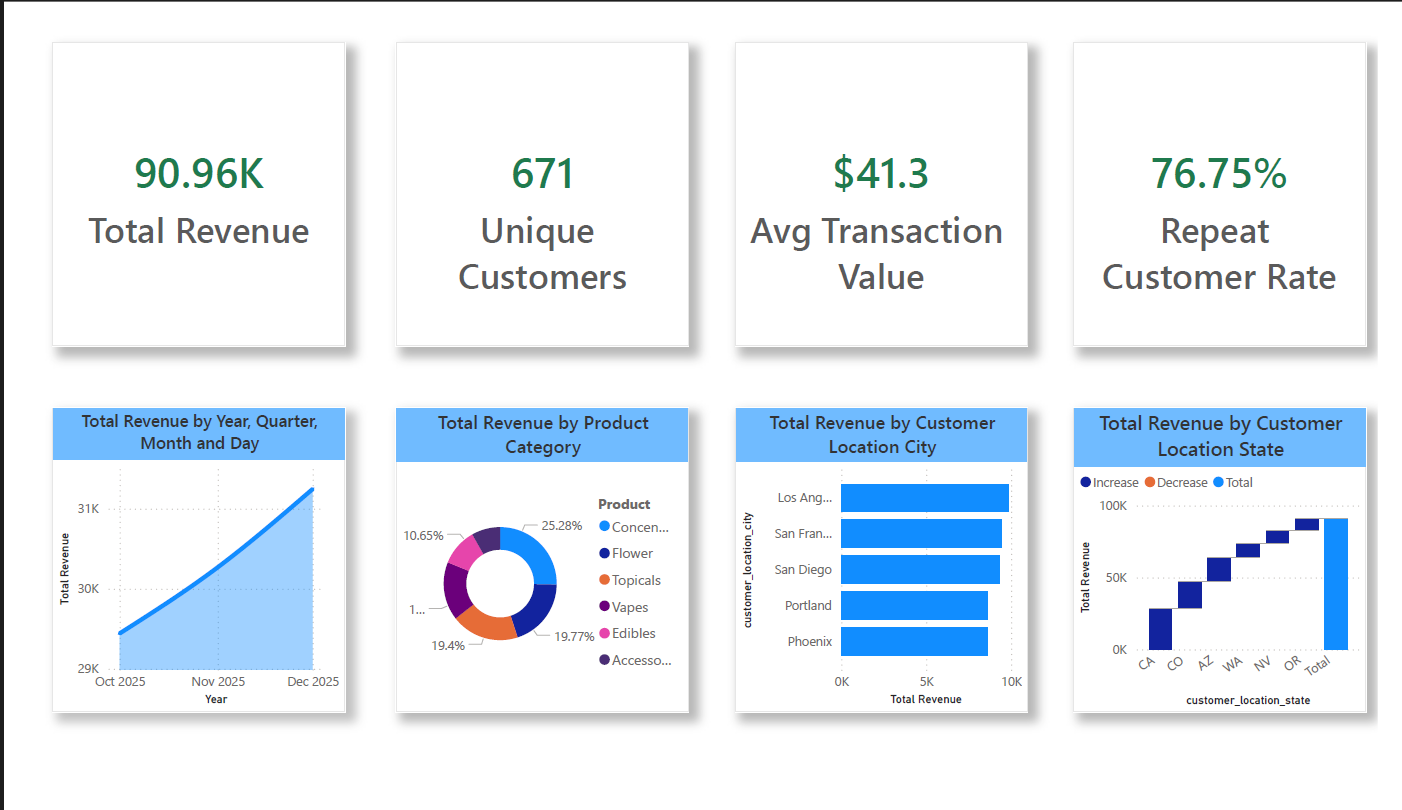

This screenshot's page, from the dashboard's own definition file:
{"tool":"powerbi","page":{"name":"Executive Overview","canvas":[1280,720],"ordinal":0},"visuals":[{"type":"card","fields":{"Values":["dispensary_data_cleaned.Total Revenue"]},"box":[22.3,14.4,277.8,289],"z":0},{"type":"card","fields":{"Values":["dispensary_data_cleaned.Unique Customers"]},"box":[348,14.4,277.8,289],"z":1000},{"type":"card","fields":{"Values":["dispensary_data_cleaned.Avg Transaction Value"]},"box":[670.5,14.4,277.8,289],"z":2000},{"type":"card","fields":{"Values":["dispensary_data_cleaned.Repeat Customer Rate"]},"box":[991.4,14.4,277.8,289],"z":3000},{"type":"lineChart","fields":{"Category":["dispensary_data_cleaned.month_year.Variation.Date Hierarchy.Year","dispensary_data_cleaned.month_year.Variation.Date Hierarchy.Quarter","dispensary_data_cleaned.month_year.Variation.Date Hierarchy.Month","dispensary_data_cleaned.month_year.Variation.Date Hierarchy.Day"],"Y":["dispensary_data_cleaned.Total Revenue"]},"box":[22.3,360.8,277.8,289],"z":4000},{"type":"donutChart","title":"Total Revenue by Product Category","fields":{"Category":["dispensary_data_cleaned.product_category"],"Y":["dispensary_data_cleaned.Total Revenue"]},"box":[348,361,278,289],"z":5000},{"type":"clusteredBarChart","title":"Total Revenue by Customer Location City","fields":{"Category":["dispensary_data_cleaned.customer_location_city"],"Y":["dispensary_data_cleaned.Total Revenue"]},"box":[670,361,278,289],"z":6000},{"type":"waterfallChart","title":"Total Revenue by Customer Location State","fields":{"Category":["dispensary_data_cleaned.customer_location_state"],"Y":["dispensary_data_cleaned.Total Revenue"]},"box":[991,361,278,289],"z":7000}]}

Visuals, with their boxes in screenshot pixels (x1, y1, x2, y2), scaled from the page's 1280x720 canvas onto the 1402x810 screenshot:
card - dispensary_data_cleaned.Total Revenue: [x1=24, y1=16, x2=329, y2=341]
card - dispensary_data_cleaned.Unique Customers: [x1=381, y1=16, x2=685, y2=341]
card - dispensary_data_cleaned.Avg Transaction Value: [x1=734, y1=16, x2=1039, y2=341]
card - dispensary_data_cleaned.Repeat Customer Rate: [x1=1086, y1=16, x2=1390, y2=341]
lineChart - dispensary_data_cleaned.month_year.Variation.Date Hierarchy.Year x dispensary_data_cleaned.month_year.Variation.Date Hierarchy.Quarter: [x1=24, y1=406, x2=329, y2=731]
"Total Revenue by Product Category" donutChart: [x1=381, y1=406, x2=686, y2=731]
"Total Revenue by Customer Location City" clusteredBarChart: [x1=734, y1=406, x2=1038, y2=731]
"Total Revenue by Customer Location State" waterfallChart: [x1=1085, y1=406, x2=1390, y2=731]
